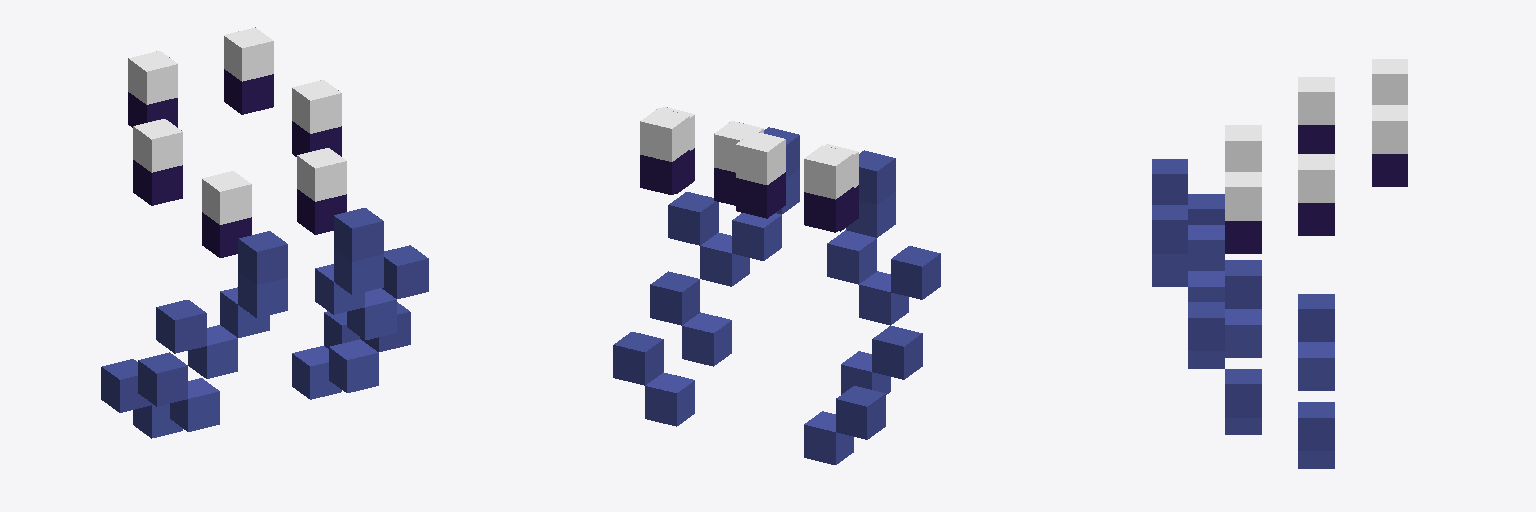
3 renders of one model, left to right at view 1: azimuth 30°, elevation 25°; view 2: azimuth 150°, elevation 25°; view 3: azimuth 270°, elevation 25°, orthographic.
Visible parts, largest first — view 1: Shaman-transparent; view 2: Shaman-transparent; view 3: Shaman-transparent.
Part boxes in pixels (x1,y1,x2,y2): Shaman-transparent: (101,27,428,438); Shaman-transparent: (613,107,940,464); Shaman-transparent: (1152,59,1407,468).
Bounding box in the file's own units: 8 × 10 × 7.
Materials: 1 (1 with a texture image).